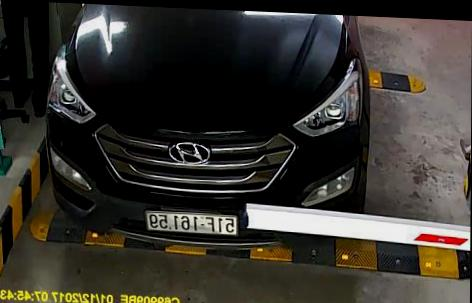License_Plate: (138, 204, 245, 242)
